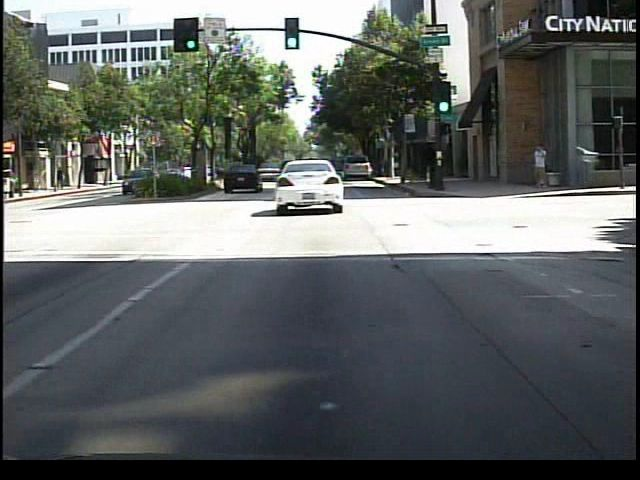person: (530, 142, 554, 194), (54, 162, 70, 196)
